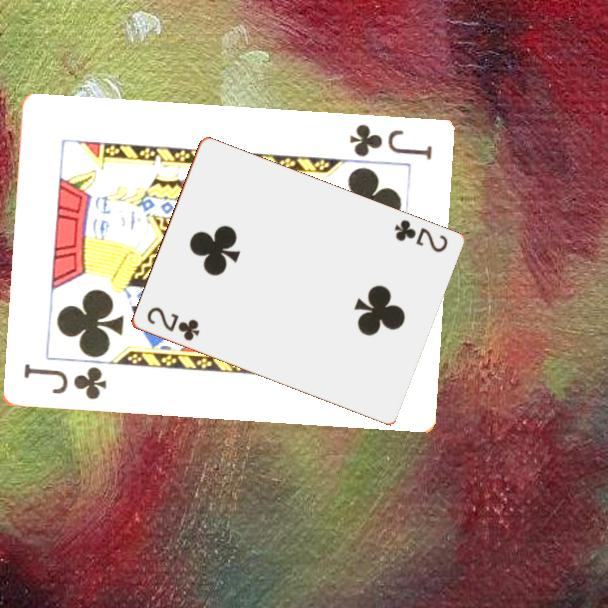c02: (143, 303, 202, 344), (390, 216, 450, 256)
c11: (20, 361, 109, 403), (346, 121, 435, 163)
